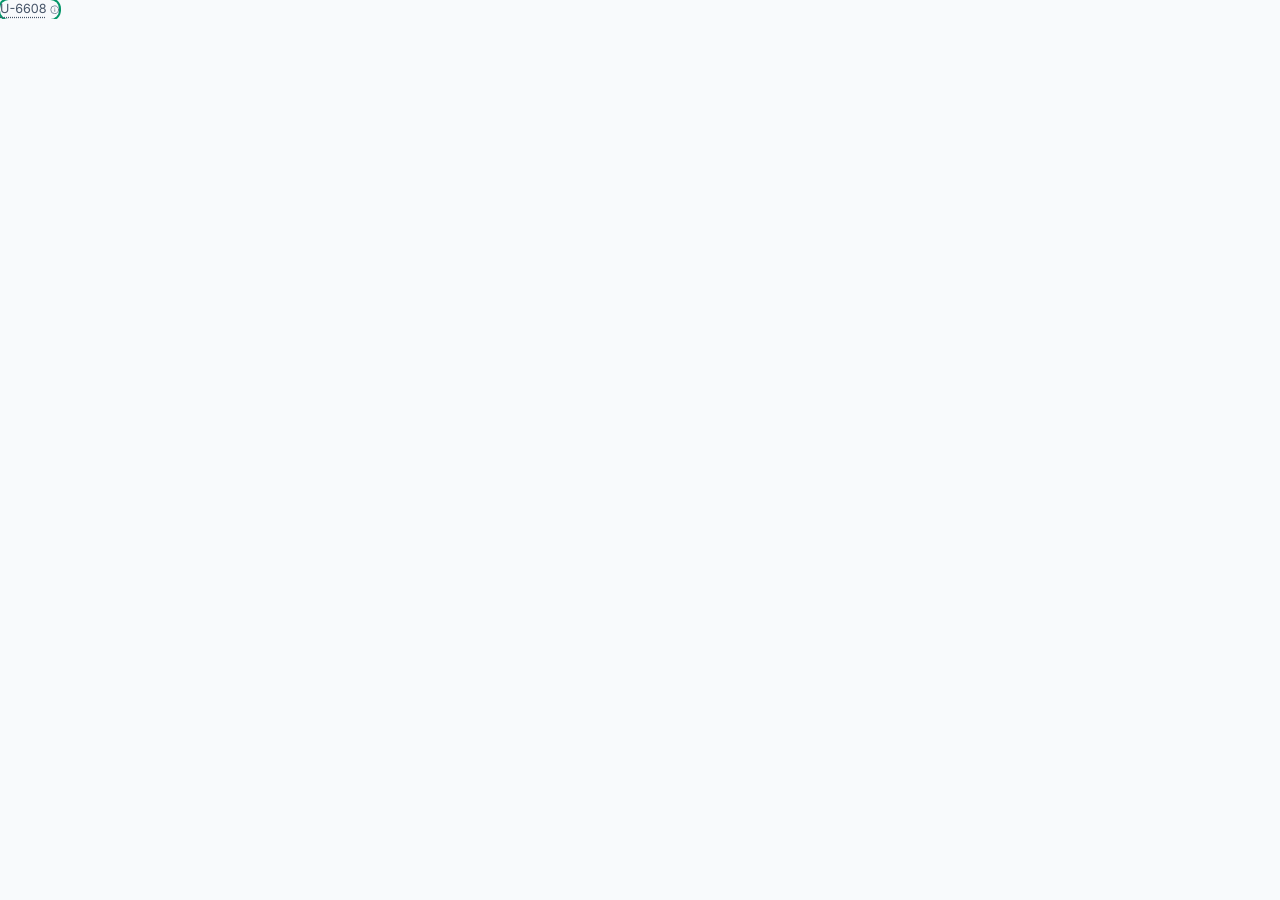
Test case: read-only loan overview information › shows one fully received asset and preserves its exact SKU and description
The width and height of the screenshot is (1280, 900).
Click the button.
click(30, 10)  # box [0, 0, 59, 19]
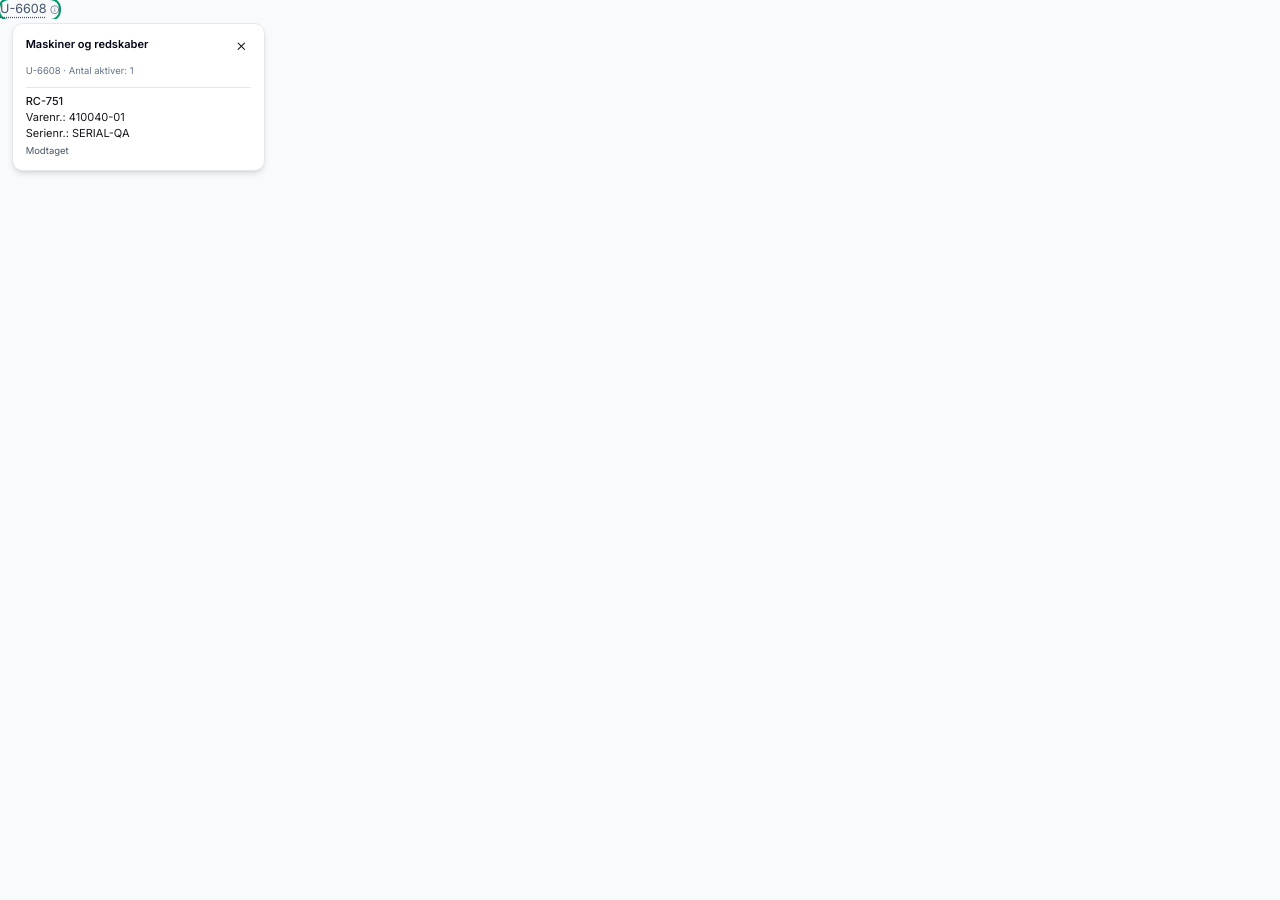
Check: the text "RC-751" is shown, box [26, 94, 63, 108]
Check: the text "Varenr.: 410040-01" is shown, box [26, 110, 125, 124]
Check: the text "Modtaget" is shown, box [26, 145, 69, 156]
